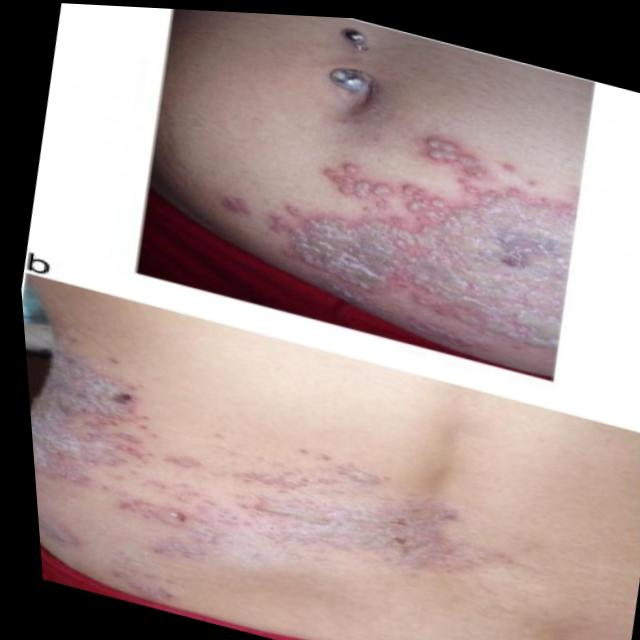Shingles: (24, 327, 494, 639), (265, 99, 615, 374)
